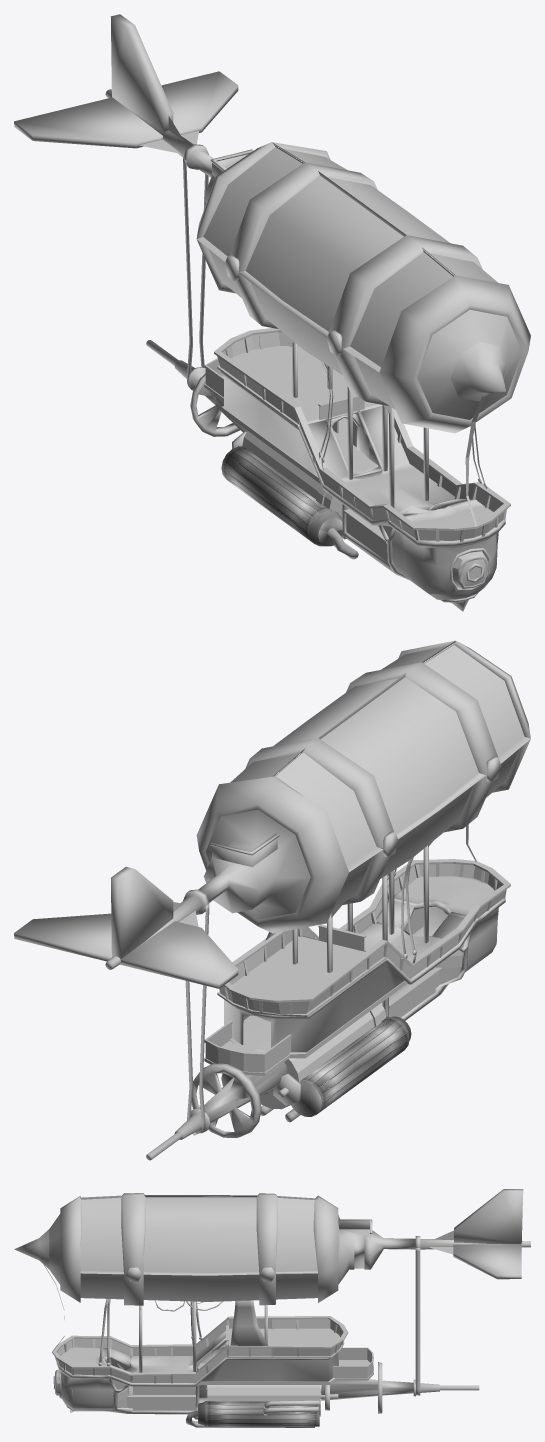
Rendered from DryIceFin.fbx.
The picture shows the model from 3 angles, top to bottom: view 1: azimuth 30°, elevation 25°; view 2: azimuth 150°, elevation 25°; view 3: azimuth 270°, elevation 25°; orthographic projection. The views are drawn at different scales.
Parts seen in each view (by area): view 1: Sphere.001, Plane, Cube.009, Cylinder.002, Cube.001, Cube.010, Plane.003, Cube.007, Cube.008, Cylinder, Cylinder.003, Plane.006 (+3 smaller); view 2: Sphere.001, Plane, Cube.009, Cube.001, Cylinder.002, Plane.003, Cylinder, Cube.010, Cube.007, Cylinder.003, Cube.008, Cube (+7 smaller); view 3: Sphere.001, Plane, Plane.003, Cylinder.002, Cube.010, Cube.007, Cylinder, Cube.009, Cylinder.003, Plane.008, Cube.001, Plane.002 (+8 smaller).
Part boxes in pixels (x1,y1,x2,y2): Sphere.001: (105,89,530,433); Plane: (221,371,505,611); Cube.009: (14,71,238,148); Cylinder.002: (221,446,358,559); Cube.001: (217,346,382,427); Cube.010: (110,14,173,132); Plane.003: (217,332,504,540); Cube.007: (214,328,510,530); Cube.008: (292,342,428,507); Cylinder: (146,340,247,436); Cylinder.003: (242,431,348,516); Plane.006: (183,158,208,383); Sphere.001: (105,640,530,969); Plane: (224,875,505,1052); Cube.009: (14,913,238,988); Cube.001: (217,927,387,1016); Cylinder.002: (221,1016,411,1122); Plane.003: (219,864,504,1014); Cylinder: (146,1062,287,1160); Cube.010: (111,867,173,958); Cube.007: (223,859,510,1002); Cylinder.003: (259,1003,386,1109); Cube.008: (292,845,428,972); Cube: (230,980,407,1058); Sphere.001: (14,1193,530,1305); Plane: (53,1330,339,1414); Plane.003: (57,1319,342,1383); Cylinder.002: (186,1385,319,1427); Cube.010: (454,1189,523,1243); Cube.007: (52,1316,348,1375); Cylinder: (321,1362,479,1413); Cube.009: (453,1244,521,1279); Cylinder.003: (207,1385,320,1416); Plane.008: (98,1299,268,1366); Cube.001: (226,1328,344,1357); Plane.002: (127,1386,195,1410).
Size of the model in its own units: 3732 by 6207 by 12486.
